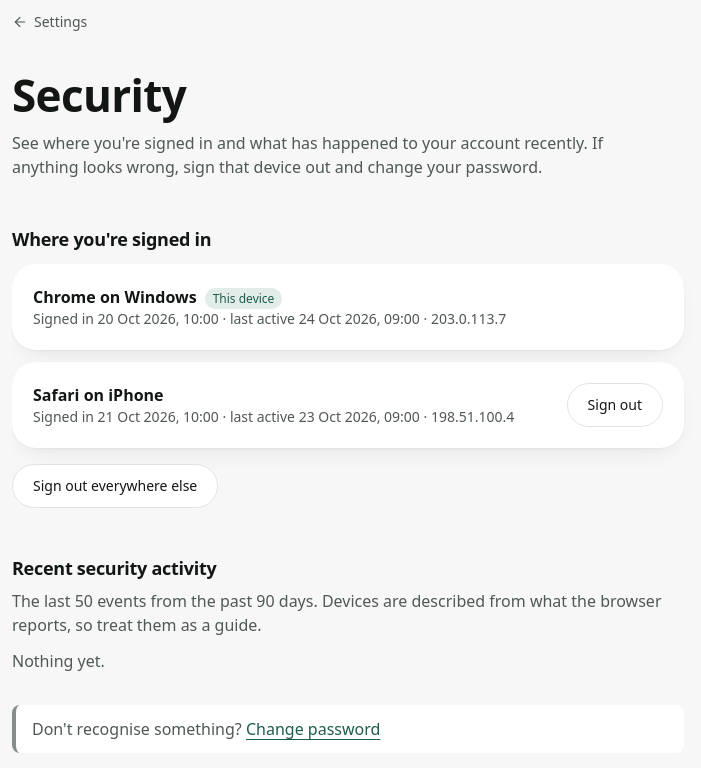
Test: SecurityPage › explains when the device was already signed out
Click the button with aria-label "Sign out Safari on iPhone" at (615, 405), box [567,383,663,427]
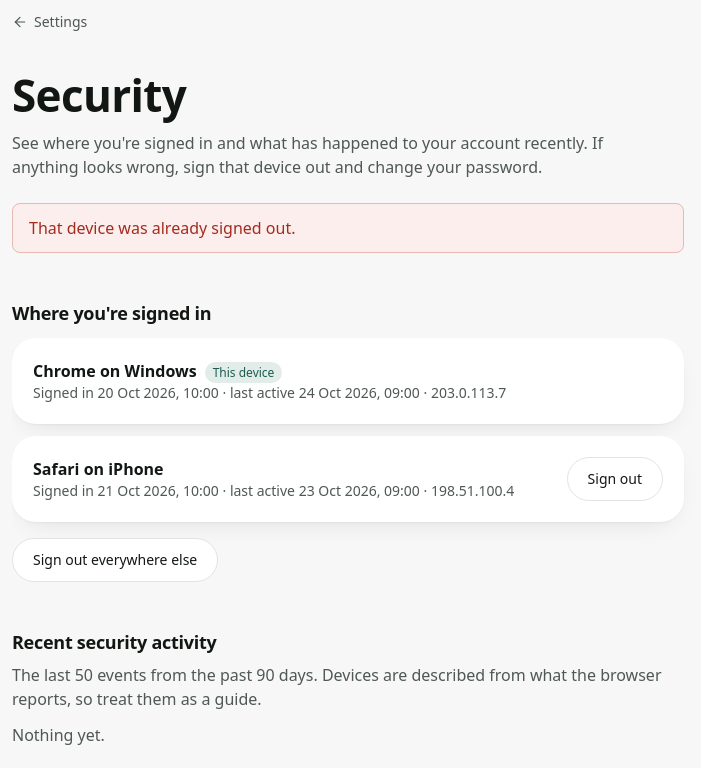
Check: the message reads "That device was already signed out.", box [29,217,296,239]
